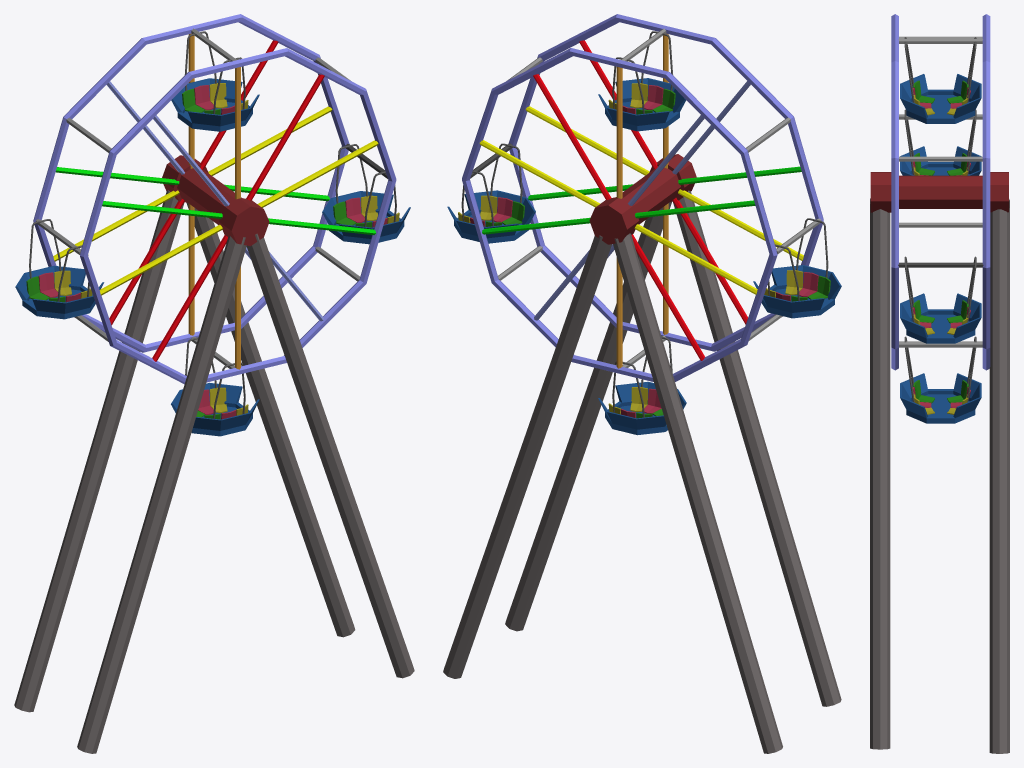
The model's file is Roda-Gigante.fbx.
The picture shows the model from 3 angles, left to right: view 1: azimuth 30°, elevation 25°; view 2: azimuth 150°, elevation 25°; view 3: azimuth 270°, elevation 25°; orthographic projection.
Parts seen in each view (by area): view 1: Cylinder.093, Cylinder.105, Cylinder.107, Cylinder.104, Cylinder.106, RetopoFlow.014, RetopoFlow.012, RetopoFlow.013, RetopoFlow.015; view 2: Cylinder.093, Cylinder.107, Cylinder.105, Cylinder.106, Cylinder.104, RetopoFlow.014, RetopoFlow.012, RetopoFlow.013, RetopoFlow.015; view 3: Cylinder.093, Cylinder.104, Cylinder.106, RetopoFlow.013, RetopoFlow.012, RetopoFlow.015, RetopoFlow.014.
Boxes of the visible parts, x1,y1,x2,y2 form: Cylinder.093: (33,14,396,384); Cylinder.105: (77,236,246,753); Cylinder.107: (14,190,184,712); Cylinder.104: (246,233,414,678); Cylinder.106: (186,202,355,637); RetopoFlow.014: (15,219,104,319); RetopoFlow.012: (171,31,259,131); RetopoFlow.013: (322,144,410,244); RetopoFlow.015: (171,337,259,436); Cylinder.093: (462,14,823,381); Cylinder.107: (613,233,782,753); Cylinder.105: (673,190,841,706); Cylinder.106: (443,235,611,678); Cylinder.104: (505,201,671,631); RetopoFlow.014: (753,218,841,318); RetopoFlow.012: (598,31,686,131); RetopoFlow.013: (447,143,535,243); RetopoFlow.015: (598,336,686,435); Cylinder.093: (870,14,1008,370); Cylinder.104: (870,204,890,749); Cylinder.106: (989,208,1009,753); RetopoFlow.013: (900,256,981,343); RetopoFlow.012: (900,37,981,123); RetopoFlow.015: (900,336,981,423); RetopoFlow.014: (900,109,981,175).
Bounding box in the file's own units: 2453 × 797 × 4037.
